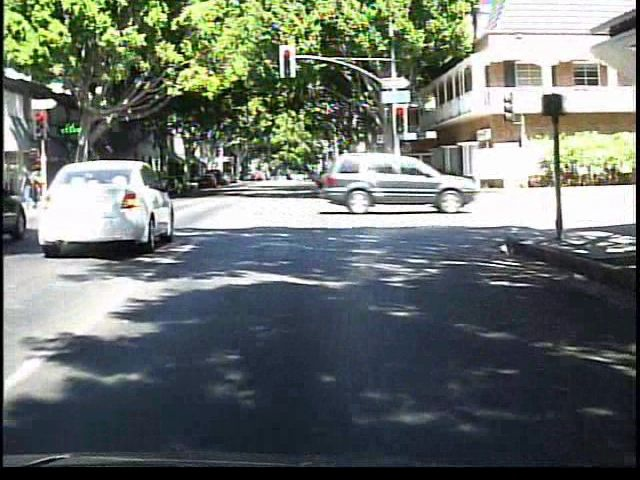person: (21, 162, 50, 204)
